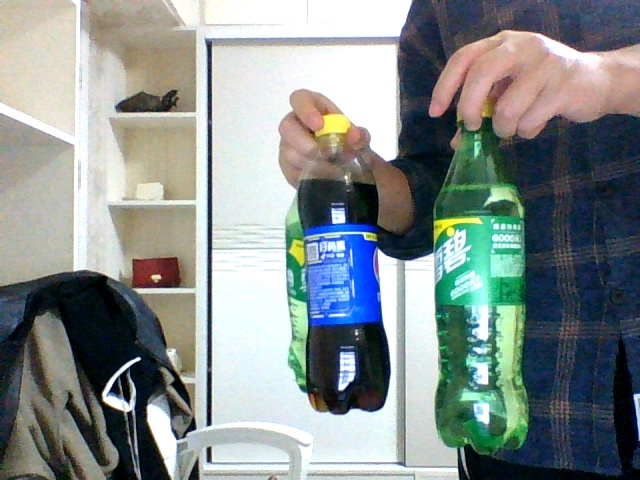Cola: (299, 116, 391, 412)
Sprite: (431, 98, 530, 456)
